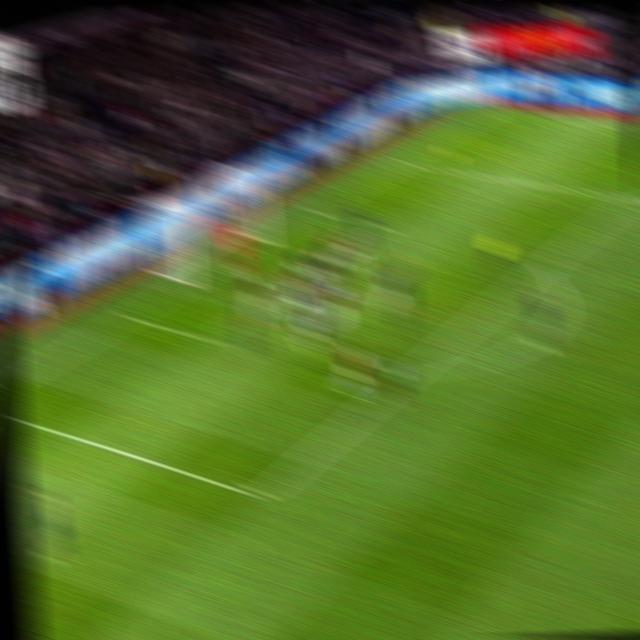bigarea_bottom_inner: (245, 479, 278, 515)
bigarea_top_inner: (618, 188, 640, 209)
bigarea_top_outter: (390, 155, 413, 169)
bottom_arc_area_intersection: (400, 362, 424, 384)
corner: (481, 103, 505, 117)
smallarea_bottom_inner: (195, 325, 223, 353)
smallarea_bottom_outter: (117, 306, 142, 327)
smallarea_top_inner: (373, 218, 398, 236)
smallarea_top_outter: (304, 202, 326, 221)
top_arc_area_intersection: (531, 260, 553, 276)
